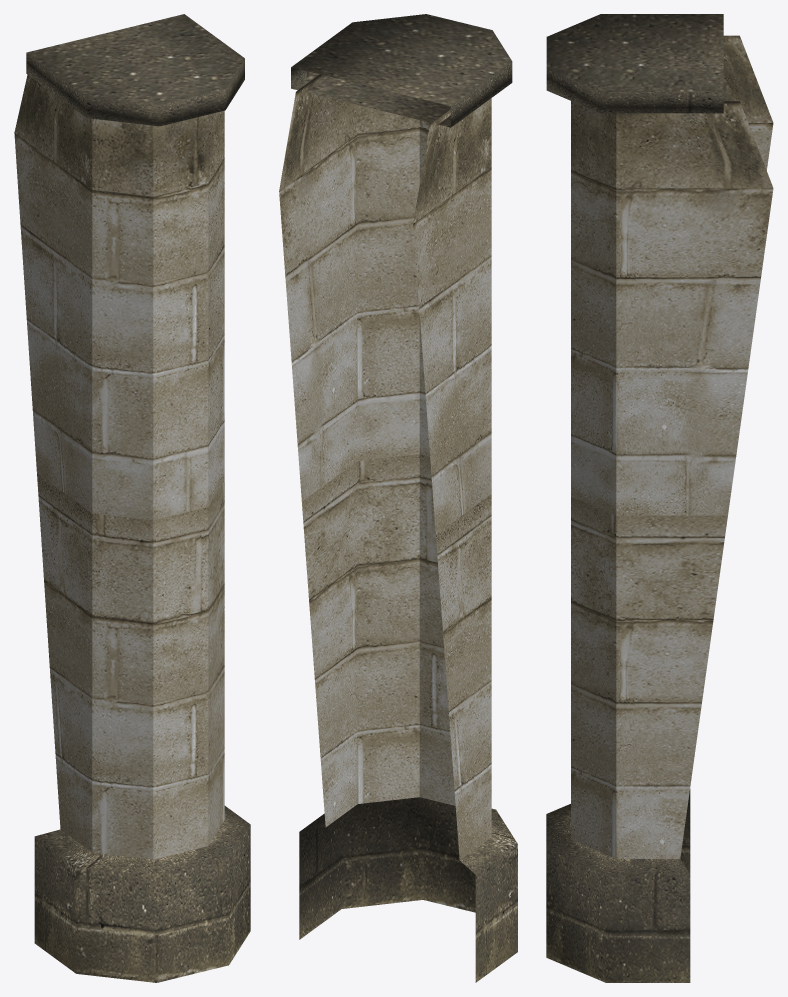
The model's file is column.fbx.
3 renders of one model, left to right at view 1: azimuth 30°, elevation 25°; view 2: azimuth 150°, elevation 25°; view 3: azimuth 270°, elevation 25°, orthographic.
Parts seen in each view (by area): view 1: column; view 2: column; view 3: column.
Boxes of the visible parts, x1,y1,x2,y2 form: column: (14,14,250,982); column: (279,14,517,982); column: (546,14,773,982).
Size of the model in its own units: 82.96 by 399 by 92.5.
